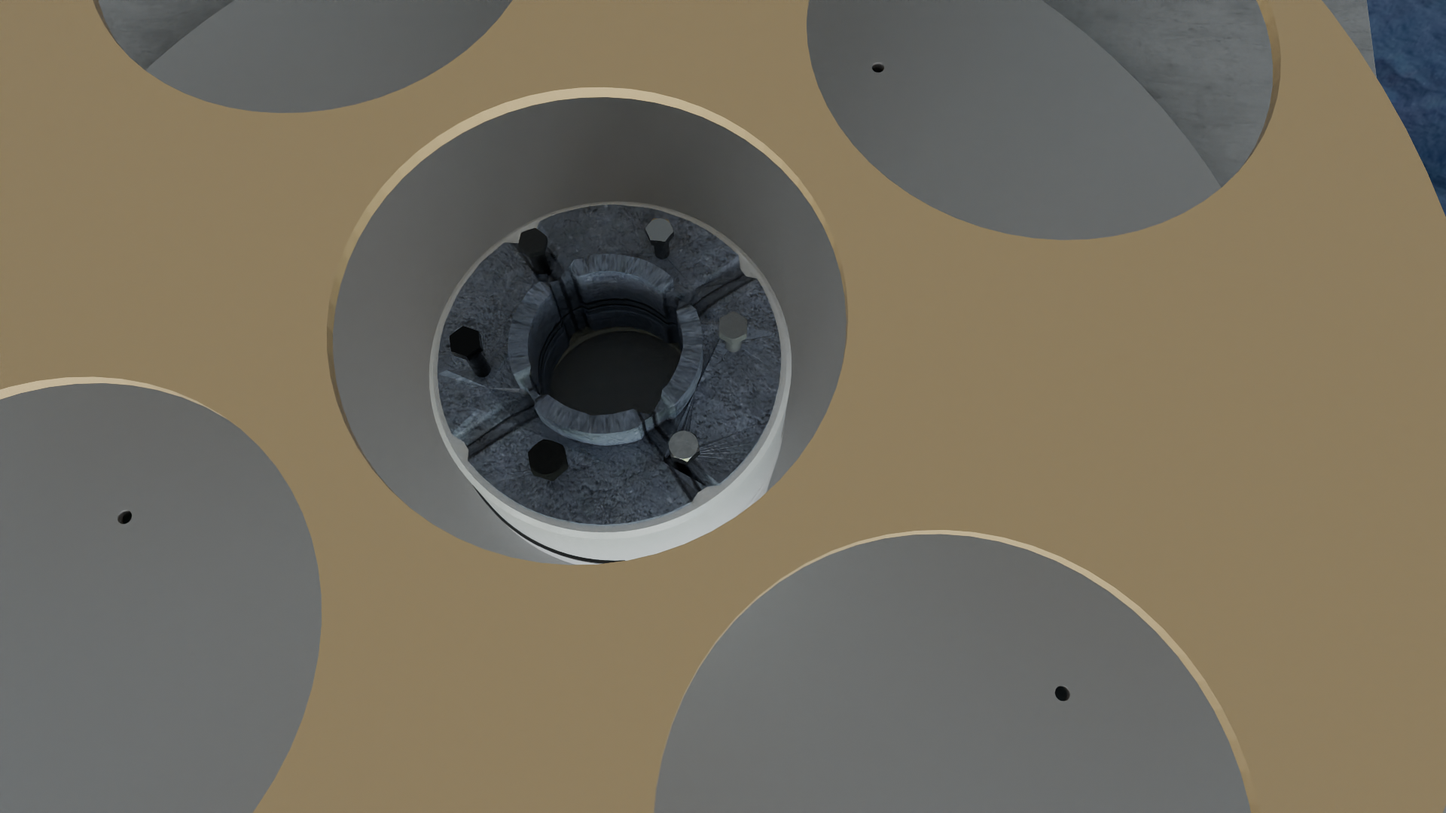bolt: (528, 440, 566, 478), (667, 430, 700, 462), (450, 326, 480, 357), (718, 312, 747, 341), (518, 228, 546, 254), (645, 218, 673, 242)
